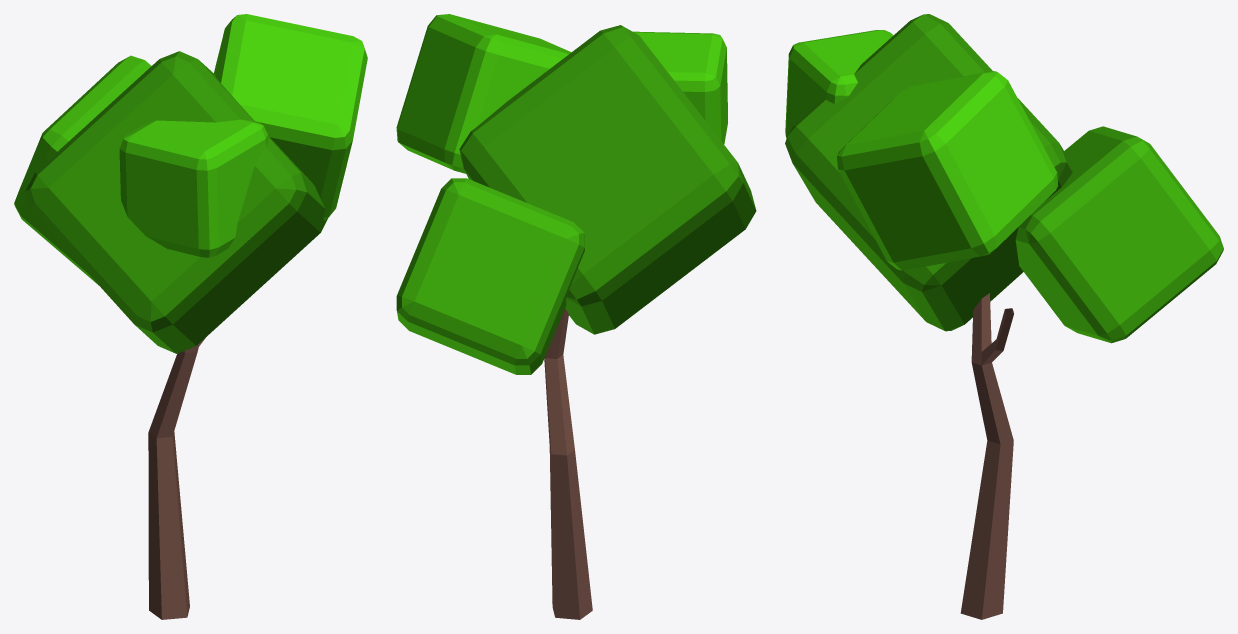
Rendered from treeSet_green1.dae.
3 renders of one model, left to right at view 1: azimuth 30°, elevation 25°; view 2: azimuth 150°, elevation 25°; view 3: azimuth 270°, elevation 25°, orthographic. The views are drawn at different scales.
Parts seen in each view (by area): view 1: leaves (×4), bark; view 2: leaves (×4), bark; view 3: leaves (×4), bark.
Part boxes in pixels (x1,y1,x2,y2): leaves (×4): (14,14,367,353); bark: (148,338,205,619); leaves (×4): (396,14,756,374); bark: (544,308,592,619); leaves (×4): (785,14,1223,343); bark: (960,293,1013,619).
Bounding box in the file's own units: 542 × 904 × 615.
Materials: 1 (1 with a texture image).
